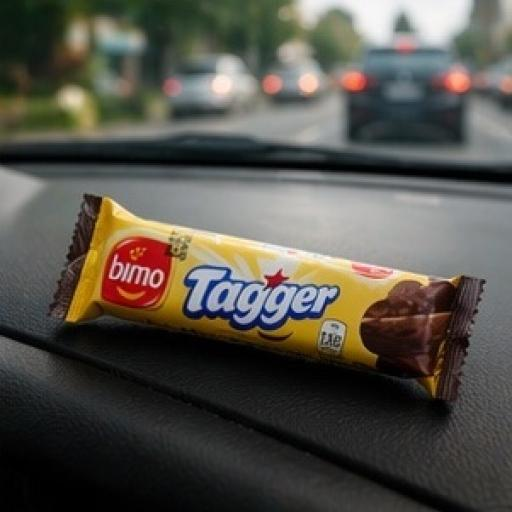tagger: (42, 142, 502, 424)
